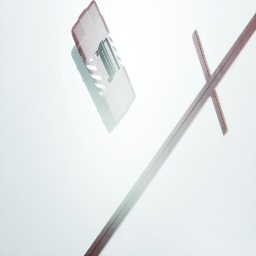FirstAidBox ,: (71, 0, 136, 126)
